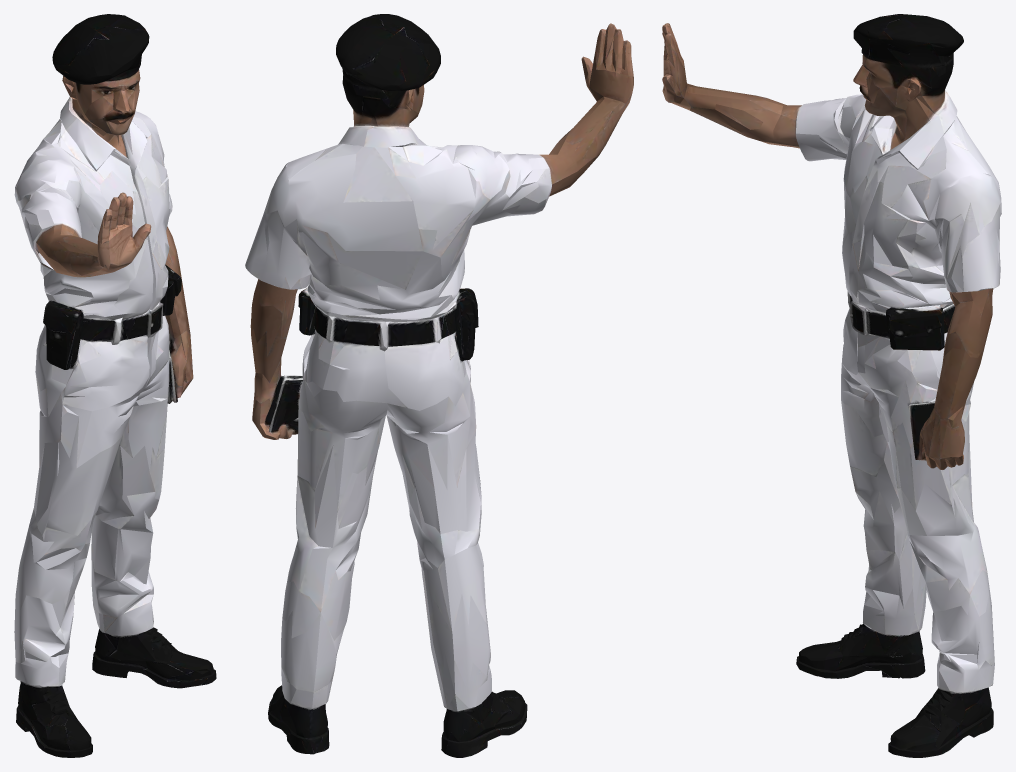
Rendered from cop.glb.
The picture shows the model from 3 angles, left to right: view 1: azimuth 30°, elevation 25°; view 2: azimuth 150°, elevation 25°; view 3: azimuth 270°, elevation 25°; orthographic projection. The views are drawn at different scales.
Visible parts, largest first — view 1: output_unwrapped; view 2: output_unwrapped; view 3: output_unwrapped.
Part boxes in pixels (x1,y1,x2,y2): output_unwrapped: (14,14,216,757); output_unwrapped: (245,14,633,757); output_unwrapped: (662,14,1001,757).
Bounding box in the file's own units: 0.677 × 1.9 × 0.8464.
1 material, 1 textured.
